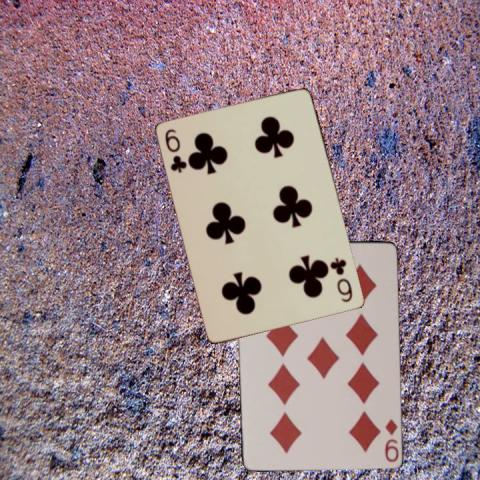6c: (162, 126, 189, 174), (329, 255, 354, 304)
9d: (381, 415, 399, 463)
